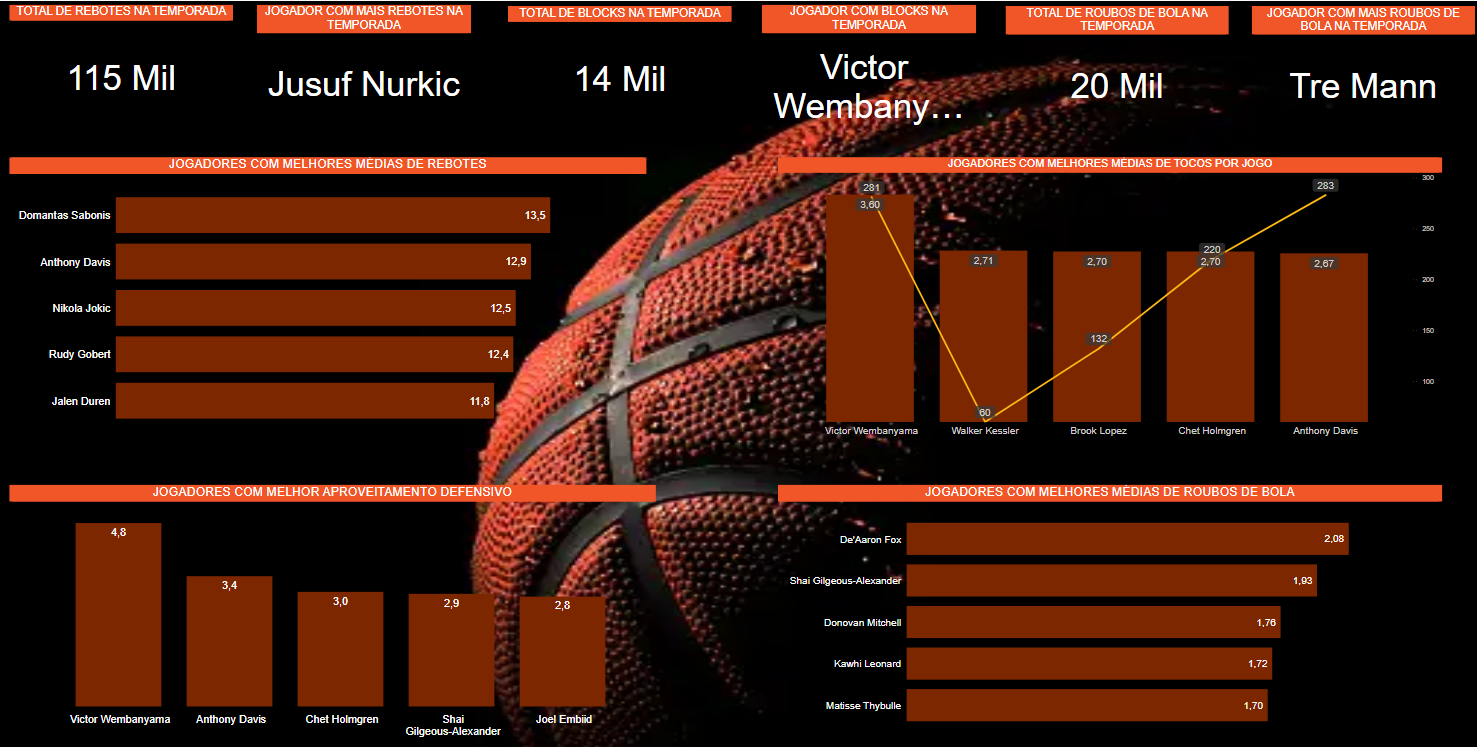

The dashboard page shown, as its layout file describes it:
{"tool":"powerbi","page":{"name":" ESTATÍSTICAS DEFENSIVAS","canvas":[2550,1300],"ordinal":1},"visuals":[{"type":"columnChart","title":"JOGADORES COM MELHOR APROVEITAMENTO DEFENSIVO","fields":{"Category":["public dim_jogador.jogador"],"Y":["public fat_performance.Aproveitamento_Defensivo"]},"box":[18.5,831.6,1111.9,442.5],"z":0},{"type":"barChart","title":"JOGADORES COM MELHORES MÉDIAS DE ROUBOS DE BOLA","fields":{"Category":["public dim_jogador.jogador"],"Y":["public fat_performance.Media_Steals_por_Jogo2"]},"box":[1341.3,831.6,1142,442.5],"z":1000},{"type":"barChart","title":"JOGADORES COM MELHORES MÉDIAS DE REBOTES","fields":{"Category":["public dim_jogador.jogador"],"Y":["public fat_performance.Media_Rebotes_por_Jogo"]},"box":[18.5,268.7,1095.7,488.8],"z":2000},{"type":"lineStackedColumnComboChart","title":"JOGADORES COM MELHORES MÉDIAS DE TOCOS POR JOGO","fields":{"Category":["public dim_jogador.jogador"],"Y2":["public fat_performance.ast"],"Y":["public fat_performance.Media_Blocks_por_Jogo"]},"box":[1341.3,268.7,1142,488.8],"z":3000},{"type":"card","title":"JOGADOR COM MAIS REBOTES NA TEMPORADA","fields":{"Values":["public fat_performance.Jogador_Com_Mais_REB"]},"box":[444.1,7.1,368.5,219.7],"z":4000},{"type":"card","title":"TOTAL DE REBOTES NA TEMPORADA","fields":{"Values":["public fat_performance.trb"]},"box":[18.9,7.1,385,219.7],"z":5000},{"type":"card","title":"TOTAL DE BLOCKS NA TEMPORADA","fields":{"Values":["public fat_performance.blk"]},"box":[877.4,7.7,384.5,219.4],"z":6000},{"type":"card","title":"JOGADOR COM BLOCKS NA TEMPORADA","fields":{"Values":["public fat_performance.Jogador_Com_Mais_Blocks"]},"box":[1313.4,7.1,368.5,219.7],"z":7000},{"type":"card","title":"TOTAL DE ROUBOS DE BOLA NA TEMPORADA","fields":{"Values":["public fat_performance.stl"]},"box":[1732.9,8.2,383.9,219.4],"z":8000},{"type":"card","title":"JOGADOR COM MAIS ROUBOS DE BOLA NA TEMPORADA ","fields":{"Values":["public fat_performance.Jogador_Com_Mais_STL"]},"box":[2155.2,8.2,383.9,219.4],"z":9000}]}

Visuals, with their boxes in screenshot pixels (x1, y1, x2, y2), scaled from the page's 2550x1300 canvas onto the 1477x747 screenshot:
"JOGADORES COM MELHOR APROVEITAMENTO DEFENSIVO" columnChart: detection(11, 478, 655, 732)
"JOGADORES COM MELHORES MÉDIAS DE ROUBOS DE BOLA" barChart: detection(777, 478, 1438, 732)
"JOGADORES COM MELHORES MÉDIAS DE REBOTES" barChart: detection(11, 154, 645, 435)
"JOGADORES COM MELHORES MÉDIAS DE TOCOS POR JOGO" lineStackedColumnComboChart: detection(777, 154, 1438, 435)
"JOGADOR COM MAIS REBOTES NA TEMPORADA" card: detection(257, 4, 471, 130)
"TOTAL DE REBOTES NA TEMPORADA" card: detection(11, 4, 234, 130)
"TOTAL DE BLOCKS NA TEMPORADA" card: detection(508, 4, 731, 130)
"JOGADOR COM BLOCKS NA TEMPORADA" card: detection(761, 4, 974, 130)
"TOTAL DE ROUBOS DE BOLA NA TEMPORADA" card: detection(1004, 5, 1226, 131)
"JOGADOR COM MAIS ROUBOS DE BOLA NA TEMPORADA " card: detection(1248, 5, 1471, 131)
